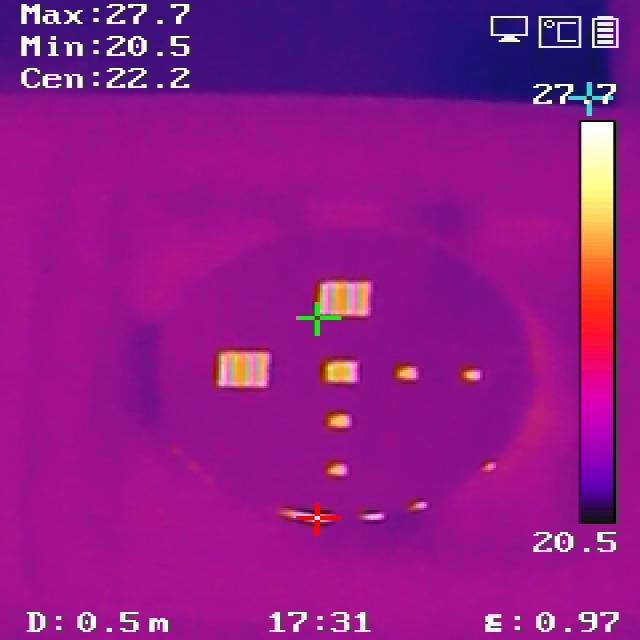Indistinguishable 4-bar target: (328, 362, 356, 384)
threshold 4-bar target: (319, 275, 381, 317), (217, 352, 272, 387)
